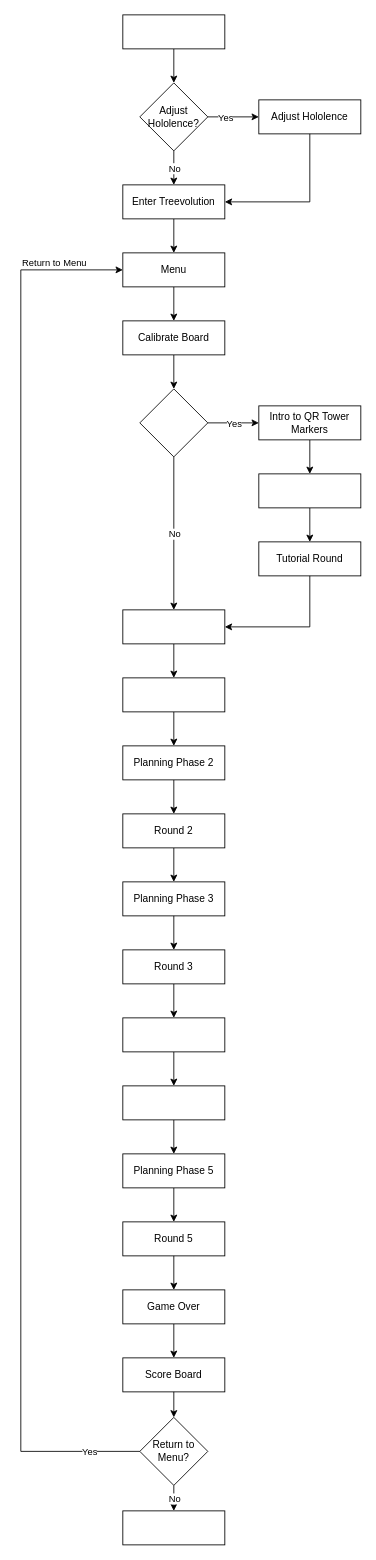
The diagram is 376 pixels wide and 1560 high, and some of its shapes have lost their labels. The box of each missing label's shape, as (x1, y1, x2, y2) in pixels:
Do Nothing: (122, 1510, 225, 1545)
Need Tutorial?: (139, 388, 208, 457)
Planning Phase 1: (122, 609, 225, 644)
Planning Phase 4: (122, 1017, 225, 1052)
Round 1: (122, 677, 225, 712)
Round 4: (122, 1085, 225, 1120)
Tutorial Planning Phase: (258, 473, 361, 508)
Wear HeadSet: (122, 14, 225, 49)
